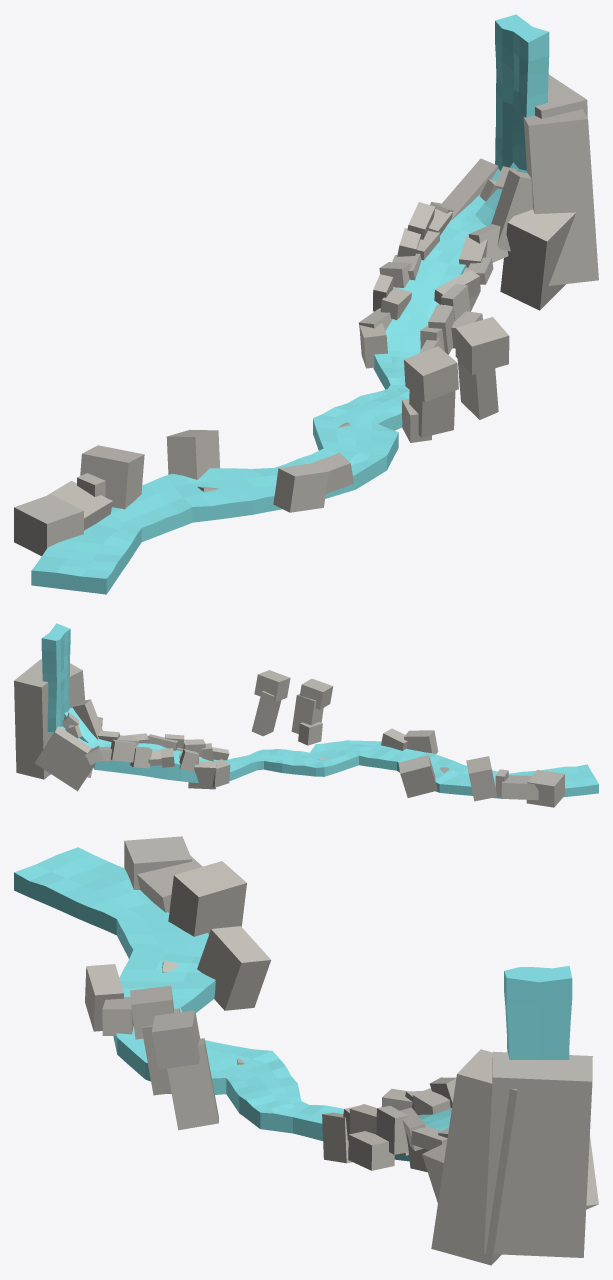
Rendered from Canyon_Streaming.fbx.
3 renders of one model, top to bottom at view 1: azimuth 30°, elevation 25°; view 2: azimuth 150°, elevation 25°; view 3: azimuth 270°, elevation 25°, orthographic. The views are drawn at different scales.
Parts seen in each view (by area): view 1: Stream, WaterfallBits, RiverPebbles; view 2: Stream, WaterfallBits, RiverPebbles; view 3: WaterfallBits, Stream, RiverPebbles.
Boxes of the visible parts, bbox=[...] form: Stream: bbox=[31, 14, 549, 594]; WaterfallBits: bbox=[359, 74, 598, 368]; RiverPebbles: bbox=[14, 317, 509, 556]; Stream: bbox=[41, 623, 598, 798]; WaterfallBits: bbox=[14, 659, 230, 791]; RiverPebbles: bbox=[251, 670, 564, 807]; WaterfallBits: bbox=[322, 1049, 598, 1265]; Stream: bbox=[14, 847, 572, 1161]; RiverPebbles: bbox=[85, 836, 270, 1130].
Size of the model in its own units: 3317 by 1987 by 1091.
